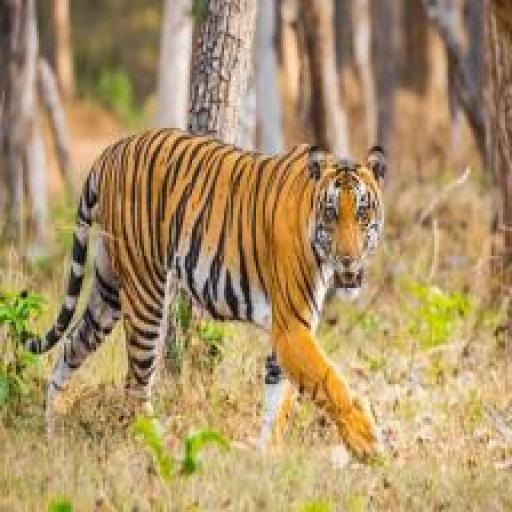Tiger: (11, 114, 408, 495)
